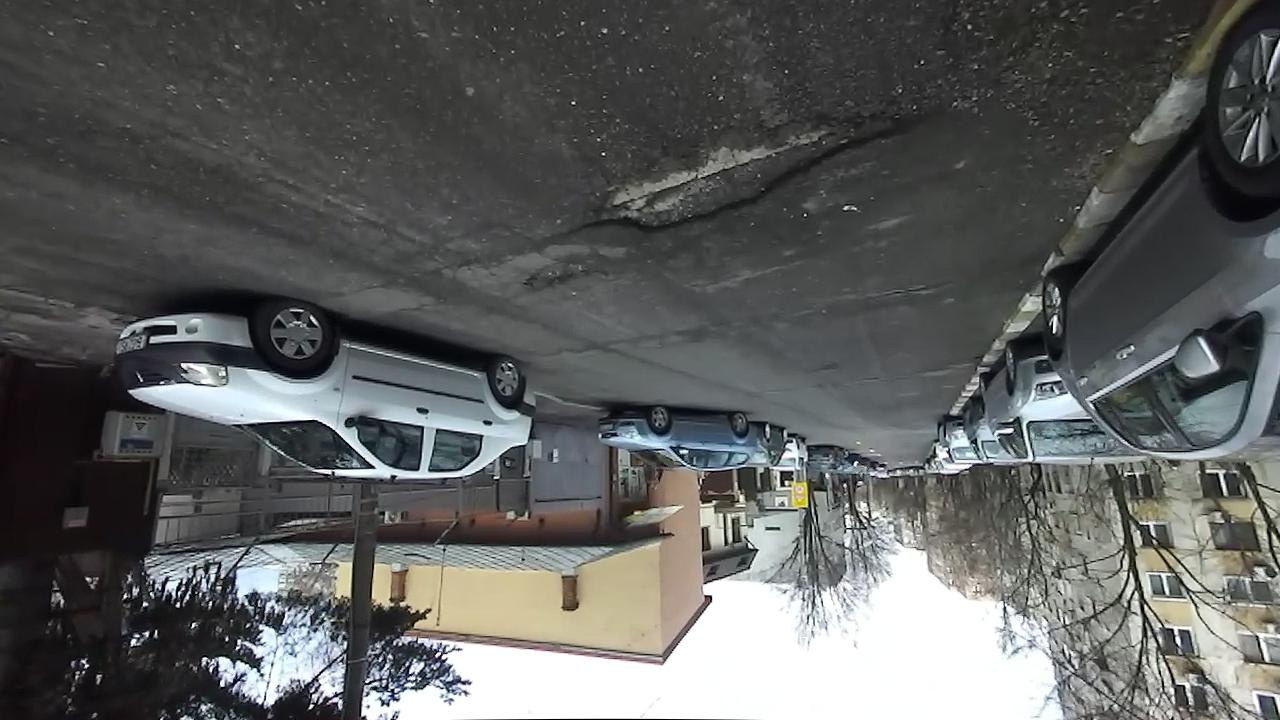pothole: (548, 104, 931, 240), (516, 256, 608, 298)
